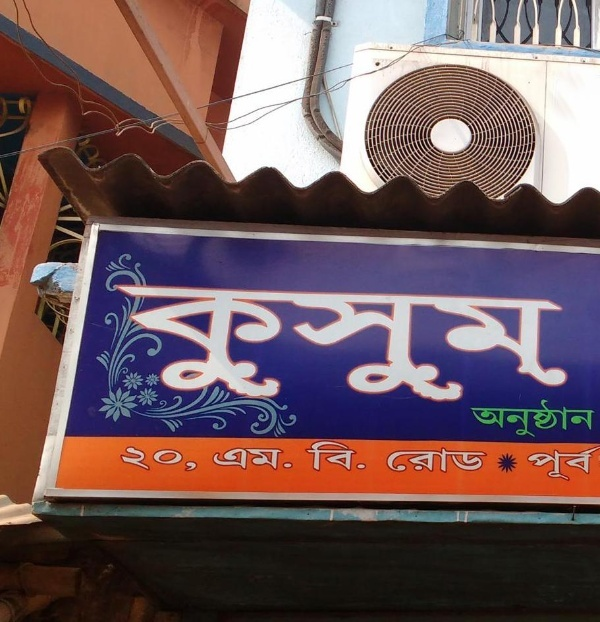text: (113, 282, 128, 403), (129, 282, 144, 403), (145, 282, 160, 403), (161, 282, 176, 403), (177, 282, 192, 403), (193, 282, 208, 403), (209, 282, 224, 403), (225, 282, 240, 403), (241, 282, 256, 403), (257, 282, 272, 403), (273, 282, 288, 403), (289, 282, 304, 403), (305, 282, 320, 403), (321, 282, 336, 403), (337, 282, 352, 403), (353, 282, 368, 403), (369, 282, 384, 403), (385, 282, 400, 403), (401, 282, 416, 403), (417, 282, 432, 403), (433, 282, 448, 403), (449, 282, 464, 403), (465, 282, 480, 403), (481, 282, 496, 403), (497, 282, 512, 403), (513, 282, 528, 403), (529, 282, 544, 403), (545, 282, 560, 403), (561, 282, 568, 403), (481, 397, 496, 440), (497, 397, 512, 440), (513, 397, 528, 440), (529, 397, 544, 440), (545, 397, 560, 440), (561, 397, 576, 440), (577, 397, 592, 440), (529, 447, 544, 482), (545, 447, 560, 482), (561, 447, 576, 482), (577, 447, 592, 482), (305, 440, 320, 474), (321, 440, 336, 474), (337, 440, 352, 474), (353, 440, 367, 474), (401, 448, 416, 478), (417, 448, 432, 478), (433, 448, 448, 478), (449, 448, 464, 478), (465, 448, 480, 478), (129, 447, 144, 473), (145, 447, 160, 473), (161, 447, 176, 473), (177, 447, 192, 473), (471, 397, 480, 440), (225, 448, 240, 473), (241, 448, 256, 473), (257, 448, 272, 473), (273, 448, 288, 473), (388, 448, 400, 478), (211, 448, 224, 473), (110, 282, 112, 403), (481, 448, 489, 478), (593, 447, 599, 482), (120, 447, 128, 473), (289, 448, 296, 473), (193, 447, 199, 473), (593, 397, 596, 440), (527, 447, 528, 482)
